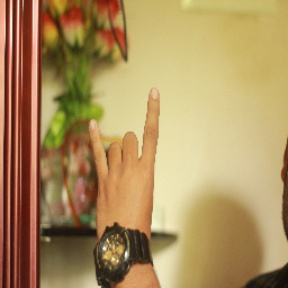V: (88, 84, 171, 247)
